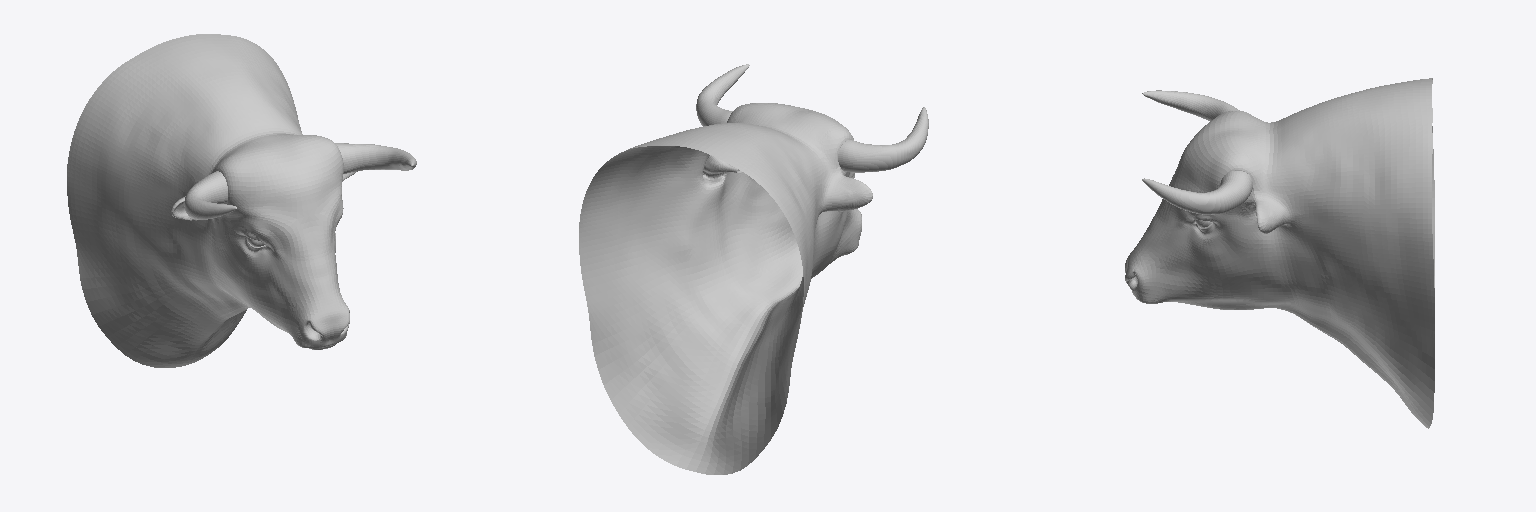
File: Toro Sculpt2.obj
3 renders of one model, left to right at view 1: azimuth 30°, elevation 25°; view 2: azimuth 150°, elevation 25°; view 3: azimuth 270°, elevation 25°, orthographic.
Parts seen in each view (by area): view 1: Retopo_Correct.001, Cuerno_Retop; view 2: Retopo_Correct.001, Cuerno_Retop; view 3: Retopo_Correct.001, Cuerno_Retop.
Boxes of the visible parts, x1=… form: Retopo_Correct.001: x1=67, y1=34, x2=357, y2=367; Cuerno_Retop: x1=184, y1=143, x2=416, y2=219; Retopo_Correct.001: x1=579, y1=103, x2=872, y2=474; Cuerno_Retop: x1=696, y1=64, x2=928, y2=172; Retopo_Correct.001: x1=1125, y1=78, x2=1434, y2=428; Cuerno_Retop: x1=1142, y1=90, x2=1252, y2=214.
Bounding box in the file's own units: 0.5054 × 0.7 × 0.6037.